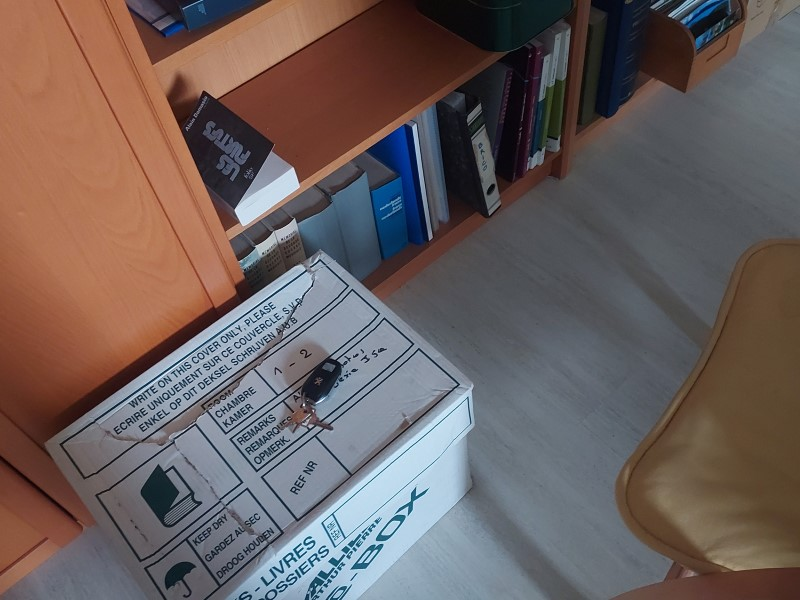carkey: (300, 357, 343, 404)
key: (279, 405, 310, 430), (305, 413, 334, 431)
